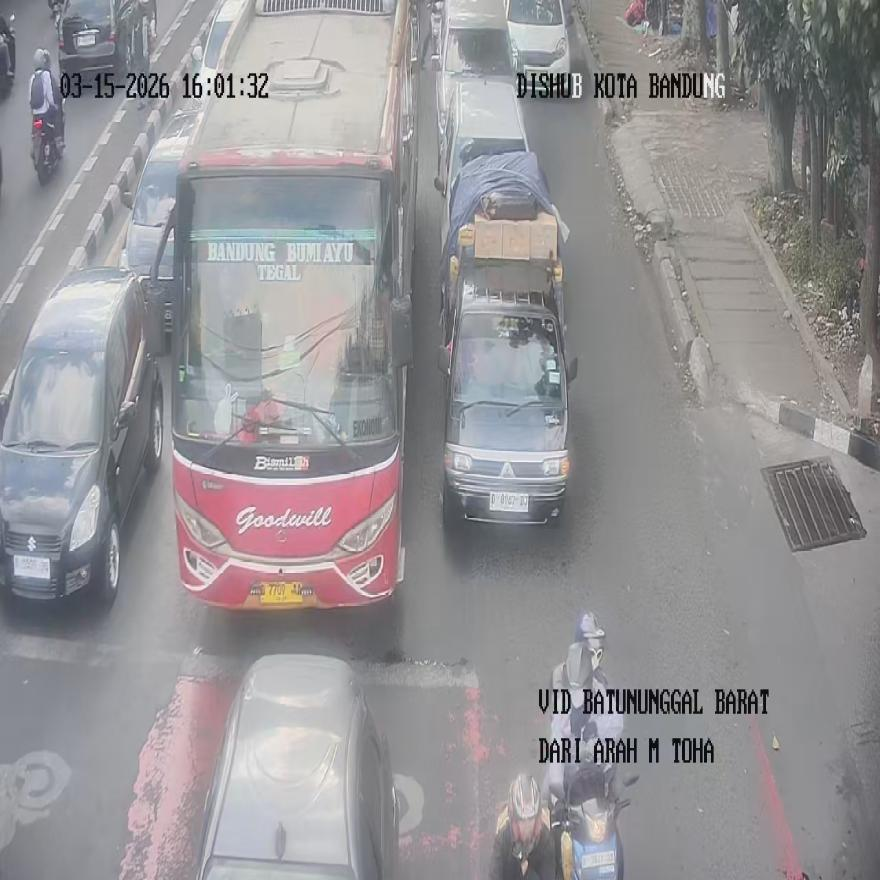Mobil: (0, 266, 163, 604), (437, 152, 578, 523), (196, 655, 399, 879), (434, 79, 529, 243), (430, 0, 516, 176), (504, 0, 571, 73)
Motor: (550, 763, 638, 879), (32, 117, 63, 184), (0, 14, 15, 98), (49, 0, 63, 30)
bus: (160, 0, 419, 612)
